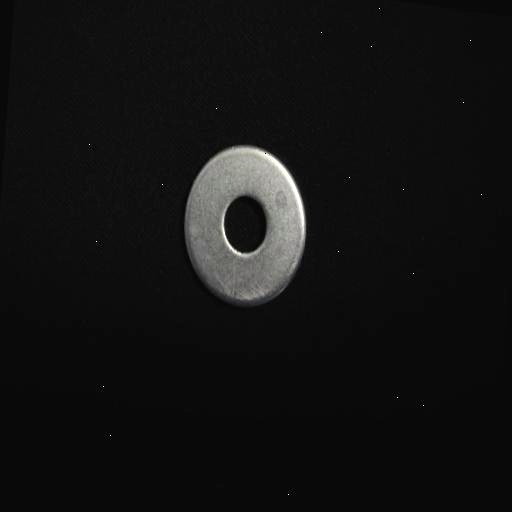Product: (185, 146, 307, 307)
Scratch: (210, 267, 274, 312), (228, 234, 268, 264)
